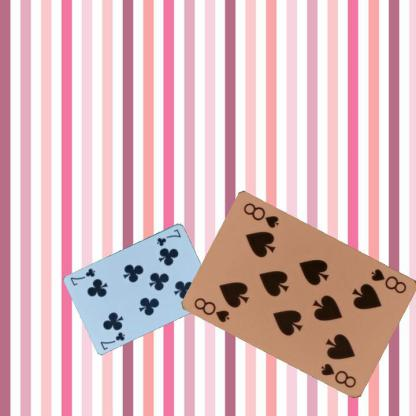7c: (98, 329, 126, 351), (154, 226, 182, 247)
8s: (368, 266, 408, 295), (192, 295, 231, 324)
